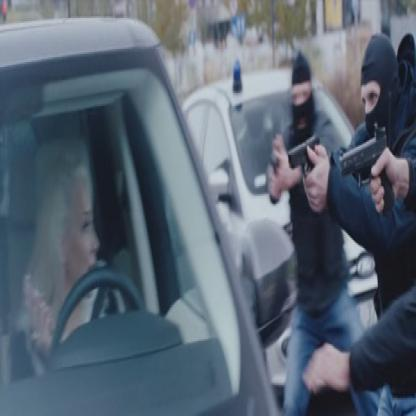Guns: (338, 122, 396, 216), (287, 129, 322, 189), (269, 144, 279, 180)
